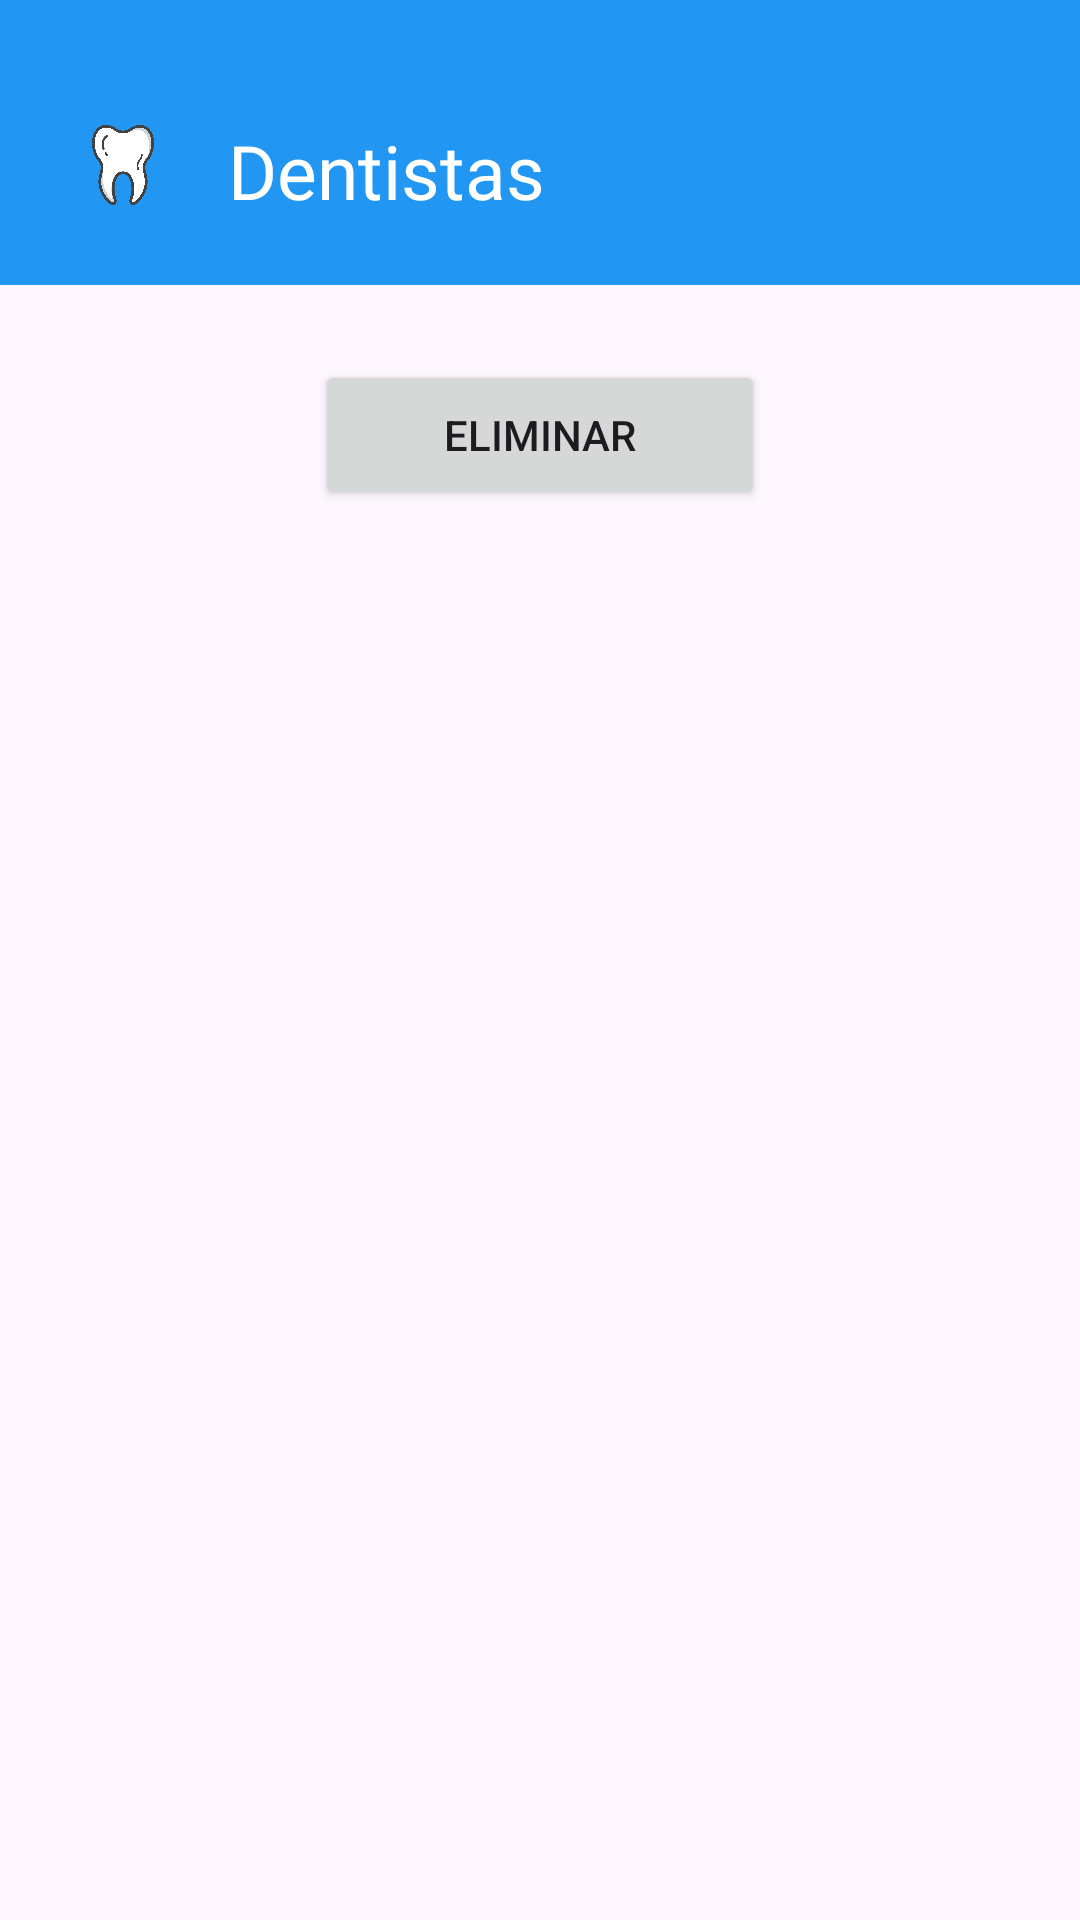

Icon bounding boxes for this 1080w x 1920h phone screenshot, format {"x1": x1, "y1": y1, "x2": x2, "y2": y2}:
diente: {"x1": 92, "y1": 125, "x2": 154, "y2": 205}
